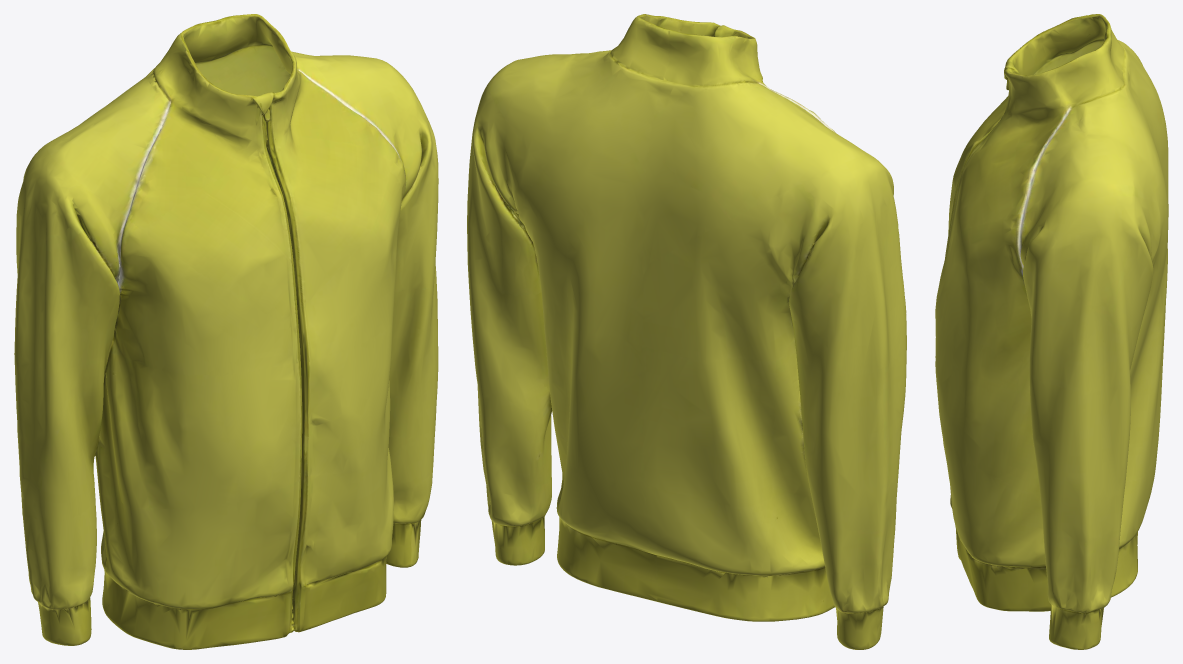
The picture shows the model from 3 angles, left to right: view 1: azimuth 30°, elevation 25°; view 2: azimuth 150°, elevation 25°; view 3: azimuth 270°, elevation 25°; orthographic projection. The views are drawn at different scales.
Parts seen in each view (by area): view 1: tripo_node_81e812e2-c4c5-4288-8c0c-e41a42ef9e3e; view 2: tripo_node_81e812e2-c4c5-4288-8c0c-e41a42ef9e3e; view 3: tripo_node_81e812e2-c4c5-4288-8c0c-e41a42ef9e3e.
Boxes of the visible parts, left/top/right/bottom form: tripo_node_81e812e2-c4c5-4288-8c0c-e41a42ef9e3e: left=14, top=14, right=438, bottom=649; tripo_node_81e812e2-c4c5-4288-8c0c-e41a42ef9e3e: left=467, top=14, right=906, bottom=649; tripo_node_81e812e2-c4c5-4288-8c0c-e41a42ef9e3e: left=935, top=14, right=1168, bottom=649.
Bounding box in the file's own units: 0.7514 × 0.9999 × 0.3947.
1 material, 1 textured.
